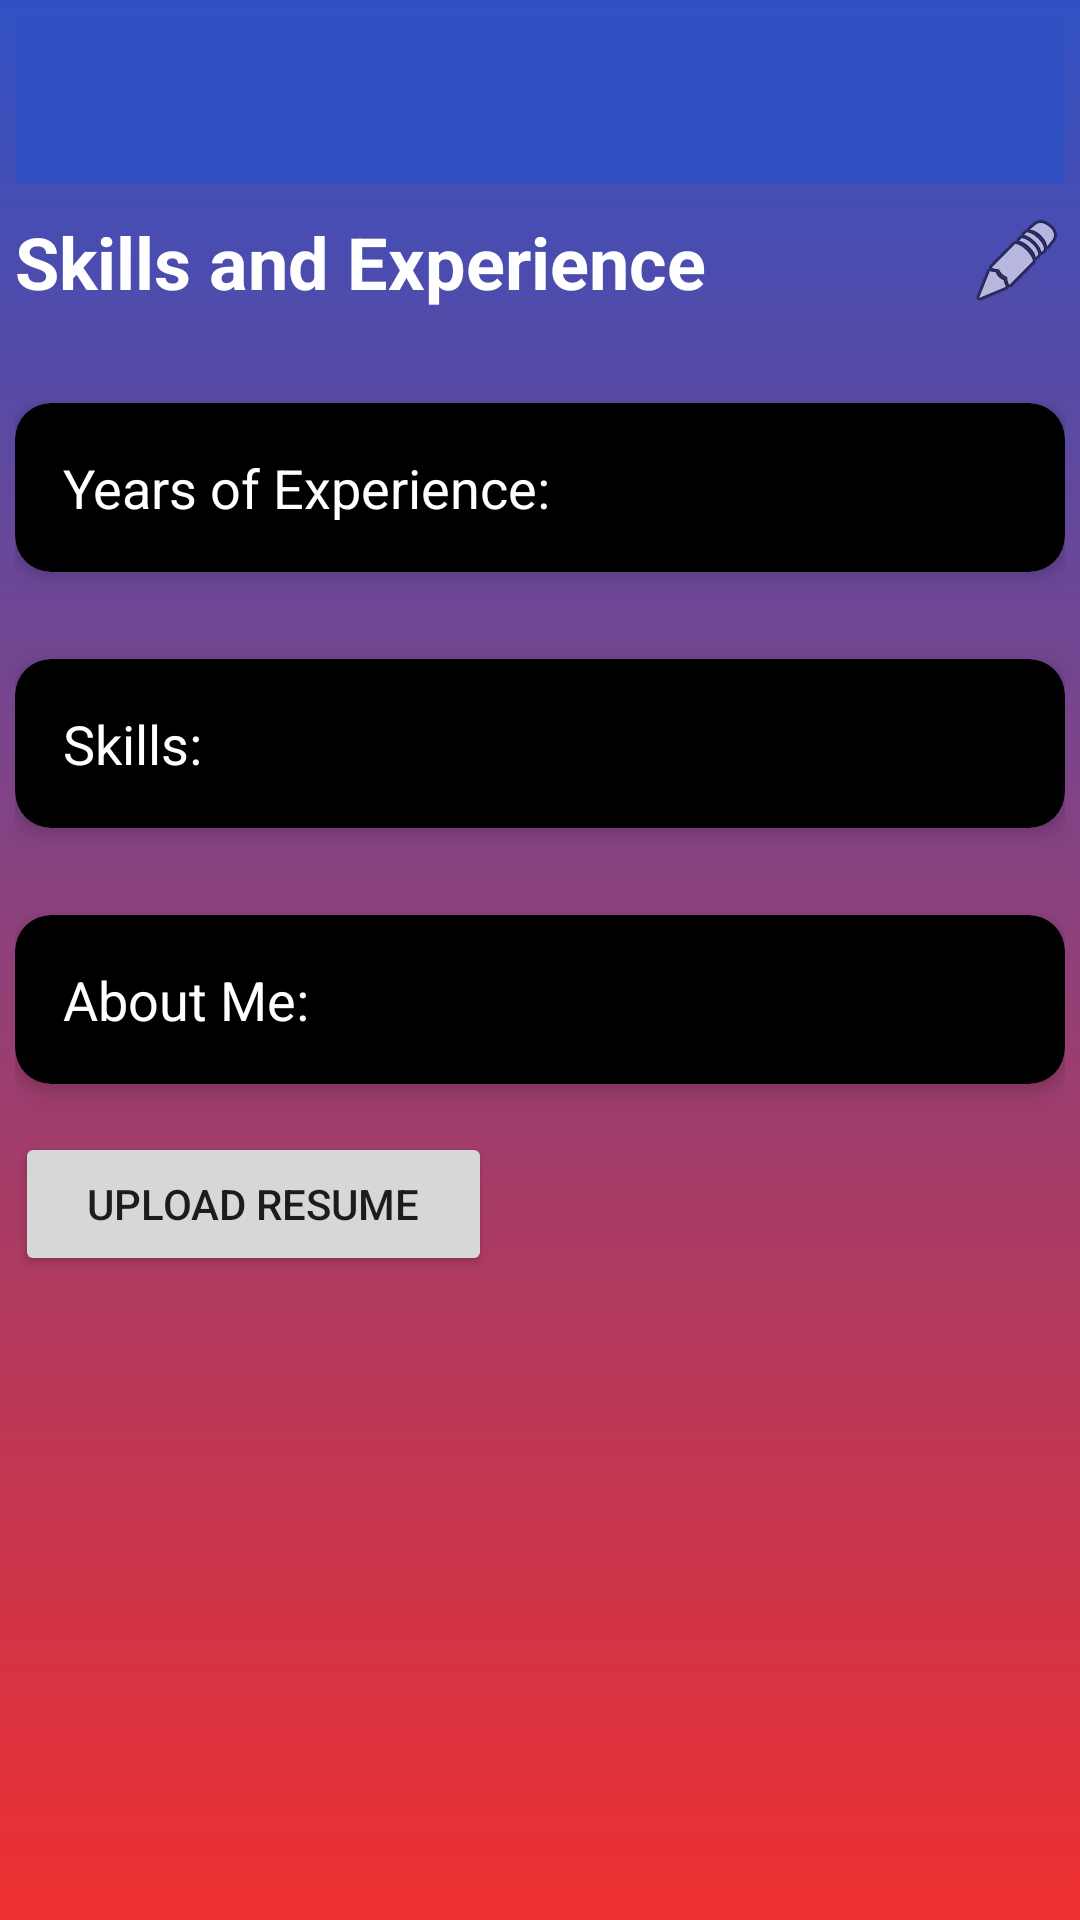

Named icons in this screenshot (1080 × 1920) and their bounding boxes, [x1=x1, y1=y1, x2=x2, y2=y2]:
Edit Resume: [x1=976, y1=220, x2=1057, y2=301]
